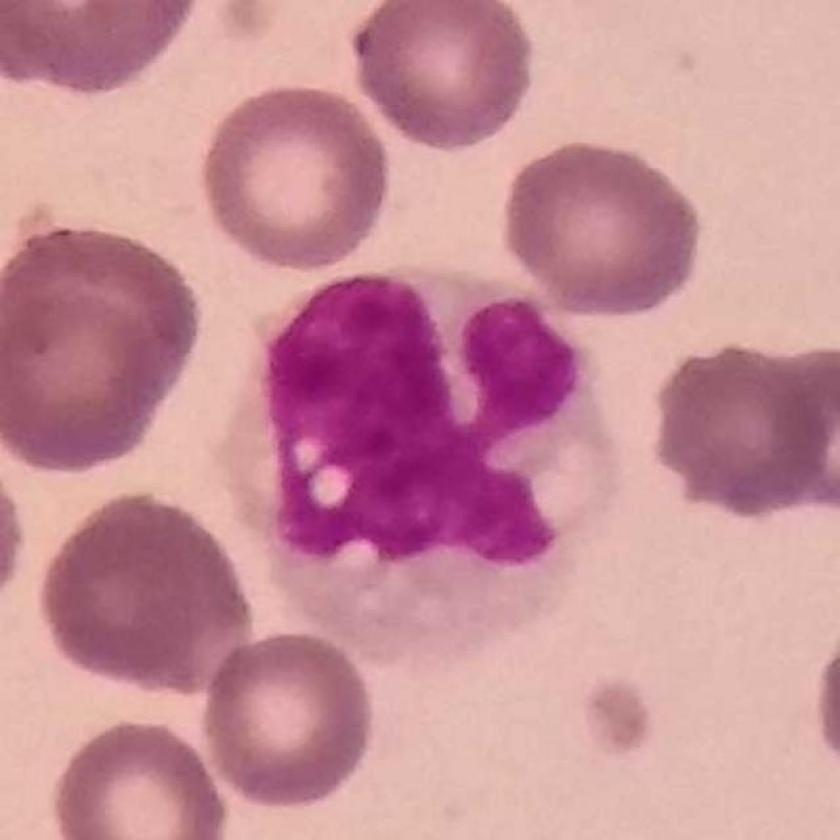monocyte: (225, 249, 631, 661)
